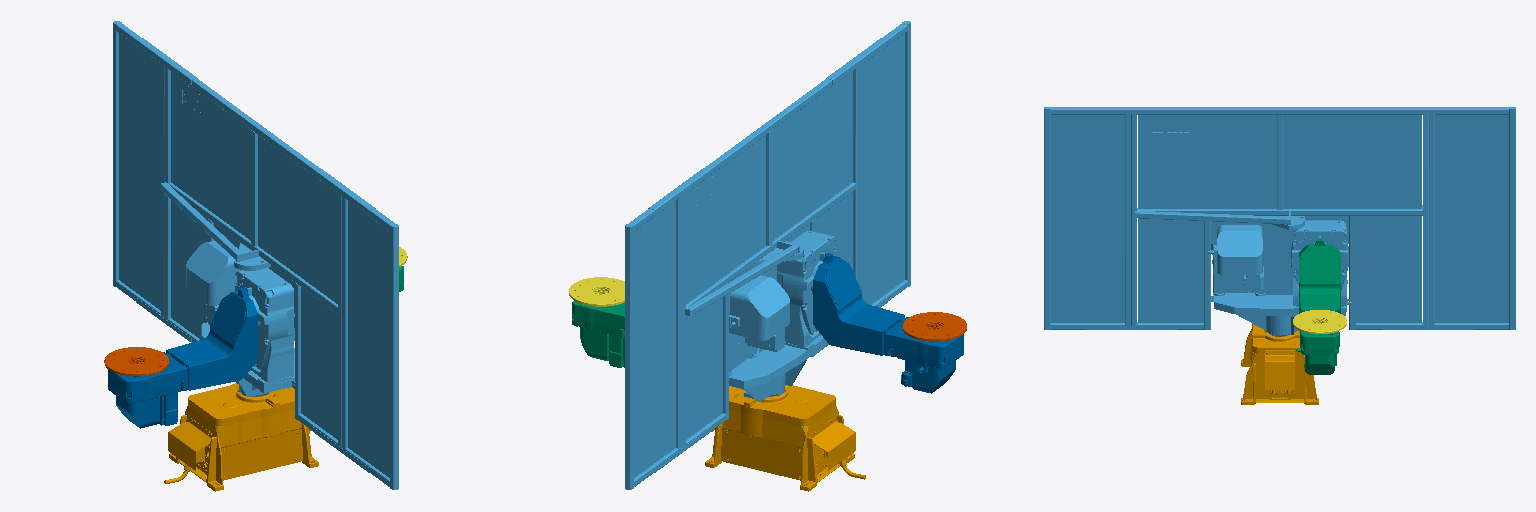
URDF robot description (Irbpb_250_D1000_IRC5_rev02_CAD):
<?xml version="1.0" ?>
<robot name="Irbpb_250_D1000_IRC5_rev02_CAD">

<link name="base_link">
  <inertial>
    <origin xyz="0.8315503227851083 0.2575732995087535 0.1972424486060194" rpy="0 0 0"/>
    <mass value="614.1963724056948"/>
    <inertia ixx="13.487506" iyy="26.109455" izz="25.519482" ixy="-0.0812" iyz="-0.009251" ixz="-0.682488"/>
  </inertial>
  <visual>
    <origin xyz="0 0 0" rpy="0 0 0"/>
    <geometry>
      <mesh filename="meshes/base_link.stl" scale="0.001 0.001 0.001"/>
    </geometry>
  </visual>
  <collision>
    <origin xyz="0 0 0" rpy="0 0 0"/>
    <geometry>
      <mesh filename="meshes/base_link.stl" scale="0.001 0.001 0.001"/>
    </geometry>
  </collision>
</link>

<link name="Irbpb_250_D1000_IRC5_rev02_Turntable250B_CAD_1">
  <inertial>
    <origin xyz="-0.00028336445741461436 0.00042225240939958164 0.582389138564045" rpy="0 0 0"/>
    <mass value="1229.2246324184493"/>
    <inertia ixx="466.81699" iyy="142.824146" izz="345.588743" ixy="-6.826558" iyz="0.260796" ixz="-0.151659"/>
  </inertial>
  <visual>
    <origin xyz="-0.893 -0.258 -0.414" rpy="0 0 0"/>
    <geometry>
      <mesh filename="meshes/Irbpb_250_D1000_IRC5_rev02_Turntable250B_CAD_1.stl" scale="0.001 0.001 0.001"/>
    </geometry>
  </visual>
  <collision>
    <origin xyz="-0.893 -0.258 -0.414" rpy="0 0 0"/>
    <geometry>
      <mesh filename="meshes/Irbpb_250_D1000_IRC5_rev02_Turntable250B_CAD_1.stl" scale="0.001 0.001 0.001"/>
    </geometry>
  </collision>
</link>

<link name="Irbpb_250_D1000_IRC5_rev02_Arm250AB_CAD_2">
  <inertial>
    <origin xyz="0.48801217356594817 0.002958455484130651 -0.23703597879900595" rpy="0 0 0"/>
    <mass value="217.73324755813744"/>
    <inertia ixx="5.185201" iyy="17.402613" izz="14.43321" ixy="-0.024249" iyz="0.115794" ixz="5.506633"/>
  </inertial>
  <visual>
    <origin xyz="-1.1035 -0.516 -1.02" rpy="0 0 0"/>
    <geometry>
      <mesh filename="meshes/Irbpb_250_D1000_IRC5_rev02_Arm250AB_CAD_2.stl" scale="0.001 0.001 0.001"/>
    </geometry>
  </visual>
  <collision>
    <origin xyz="-1.1035 -0.516 -1.02" rpy="0 0 0"/>
    <geometry>
      <mesh filename="meshes/Irbpb_250_D1000_IRC5_rev02_Arm250AB_CAD_2.stl" scale="0.001 0.001 0.001"/>
    </geometry>
  </collision>
</link>

<link name="Irbpb_250_D1000_IRC5_rev02_platter_d350_CAD_2">
  <inertial>
    <origin xyz="0.00040519612738121324 -1.0394556770876306e-08 0.027964589027180575" rpy="0 0 0"/>
    <mass value="9.835889620455225"/>
    <inertia ixx="0.066765" iyy="0.067076" izz="0.131981" ixy="-0.0" iyz="-0.0" ixz="9.3e-05"/>
  </inertial>
  <visual>
    <origin xyz="-1.786 -0.516 -0.86163" rpy="0 0 0"/>
    <geometry>
      <mesh filename="meshes/Irbpb_250_D1000_IRC5_rev02_platter_d350_CAD_2.stl" scale="0.001 0.001 0.001"/>
    </geometry>
  </visual>
  <collision>
    <origin xyz="-1.786 -0.516 -0.86163" rpy="0 0 0"/>
    <geometry>
      <mesh filename="meshes/Irbpb_250_D1000_IRC5_rev02_platter_d350_CAD_2.stl" scale="0.001 0.001 0.001"/>
    </geometry>
  </collision>
</link>

<link name="Irbpb_250_D1000_IRC5_rev02_Arm250AB_CAD_1">
  <inertial>
    <origin xyz="-0.4865121735659528 -0.0029584554840968095 -0.23703597879900562" rpy="0 0 0"/>
    <mass value="217.73324755813744"/>
    <inertia ixx="5.185201" iyy="17.402613" izz="14.43321" ixy="-0.024249" iyz="-0.115794" ixz="-5.506633"/>
  </inertial>
  <visual>
    <origin xyz="-0.681 -0.0 -1.02" rpy="0 0 0"/>
    <geometry>
      <mesh filename="meshes/Irbpb_250_D1000_IRC5_rev02_Arm250AB_CAD_1.stl" scale="0.001 0.001 0.001"/>
    </geometry>
  </visual>
  <collision>
    <origin xyz="-0.681 -0.0 -1.02" rpy="0 0 0"/>
    <geometry>
      <mesh filename="meshes/Irbpb_250_D1000_IRC5_rev02_Arm250AB_CAD_1.stl" scale="0.001 0.001 0.001"/>
    </geometry>
  </collision>
</link>

<link name="Irbpb_250_D1000_IRC5_rev02_platter_d350_CAD_1">
  <inertial>
    <origin xyz="-0.0004051961273962387 1.0394624897565086e-08 0.02829458902718074" rpy="0 0 0"/>
    <mass value="9.835889620455225"/>
    <inertia ixx="0.066765" iyy="0.067076" izz="0.131981" ixy="-0.0" iyz="0.0" ixz="-9.3e-05"/>
  </inertial>
  <visual>
    <origin xyz="-0.0 0.0 -0.8613" rpy="0 0 0"/>
    <geometry>
      <mesh filename="meshes/Irbpb_250_D1000_IRC5_rev02_platter_d350_CAD_1.stl" scale="0.001 0.001 0.001"/>
    </geometry>
  </visual>
  <collision>
    <origin xyz="-0.0 0.0 -0.8613" rpy="0 0 0"/>
    <geometry>
      <mesh filename="meshes/Irbpb_250_D1000_IRC5_rev02_platter_d350_CAD_1.stl" scale="0.001 0.001 0.001"/>
    </geometry>
  </collision>
</link>

<joint name="j1" type="continuous">
  <origin xyz="0.893 0.258 0.414" rpy="0 0 0"/>
  <parent link="base_link"/>
  <child link="Irbpb_250_D1000_IRC5_rev02_Turntable250B_CAD_1"/>
  <axis xyz="0.0 0.0 1.0"/>
</joint>

<joint name="j2" type="continuous">
  <origin xyz="0.2105 0.258 0.606" rpy="0 0 0"/>
  <parent link="Irbpb_250_D1000_IRC5_rev02_Turntable250B_CAD_1"/>
  <child link="Irbpb_250_D1000_IRC5_rev02_Arm250AB_CAD_2"/>
  <axis xyz="1.0 0.0 -0.0"/>
</joint>

<joint name="j3" type="continuous">
  <origin xyz="0.6825 0.0 -0.15837" rpy="0 0 0"/>
  <parent link="Irbpb_250_D1000_IRC5_rev02_Arm250AB_CAD_2"/>
  <child link="Irbpb_250_D1000_IRC5_rev02_platter_d350_CAD_2"/>
  <axis xyz="0.0 -0.0 1.0"/>
</joint>

<joint name="j4" type="continuous">
  <origin xyz="-0.212 -0.258 0.606" rpy="0 0 0"/>
  <parent link="Irbpb_250_D1000_IRC5_rev02_Turntable250B_CAD_1"/>
  <child link="Irbpb_250_D1000_IRC5_rev02_Arm250AB_CAD_1"/>
  <axis xyz="1.0 0.0 0.0"/>
</joint>

<joint name="j5" type="continuous">
  <origin xyz="-0.681 -0.0 -0.1587" rpy="0 0 0"/>
  <parent link="Irbpb_250_D1000_IRC5_rev02_Arm250AB_CAD_1"/>
  <child link="Irbpb_250_D1000_IRC5_rev02_platter_d350_CAD_1"/>
  <axis xyz="0.0 -0.0 -1.0"/>
</joint>

</robot>

--- Facts derived from the render (not from the file) ---
3 views of the same robot in one strip: view 1: azimuth 30°, elevation 25°; view 2: azimuth 150°, elevation 25°; view 3: azimuth 270°, elevation 25° (orthographic).
Robot: Irbpb_250_D1000_IRC5_rev02_CAD — 6 links, 5 joints (5 continuous); root link base_link; default pose: all joints at 0.
Links seen in each view (by area): view 1: Irbpb_250_D1000_IRC5_rev02_Turntable250B_CAD_1, base_link, Irbpb_250_D1000_IRC5_rev02_Arm250AB_CAD_1, Irbpb_250_D1000_IRC5_rev02_platter_d350_CAD_1; view 2: Irbpb_250_D1000_IRC5_rev02_Turntable250B_CAD_1, base_link, Irbpb_250_D1000_IRC5_rev02_Arm250AB_CAD_1, Irbpb_250_D1000_IRC5_rev02_Arm250AB_CAD_2, Irbpb_250_D1000_IRC5_rev02_platter_d350_CAD_1, Irbpb_250_D1000_IRC5_rev02_platter_d350_CAD_2; view 3: Irbpb_250_D1000_IRC5_rev02_Turntable250B_CAD_1, base_link, Irbpb_250_D1000_IRC5_rev02_Arm250AB_CAD_2, Irbpb_250_D1000_IRC5_rev02_platter_d350_CAD_2.
Link boxes in pixels (left/top/right/bottom): Irbpb_250_D1000_IRC5_rev02_Turntable250B_CAD_1: left=113, top=21, right=398, bottom=489; base_link: left=164, top=383, right=318, bottom=491; Irbpb_250_D1000_IRC5_rev02_Arm250AB_CAD_1: left=108, top=288, right=257, bottom=428; Irbpb_250_D1000_IRC5_rev02_platter_d350_CAD_1: left=104, top=347, right=168, bottom=376; Irbpb_250_D1000_IRC5_rev02_Turntable250B_CAD_1: left=625, top=21, right=910, bottom=489; base_link: left=705, top=385, right=865, bottom=491; Irbpb_250_D1000_IRC5_rev02_Arm250AB_CAD_1: left=813, top=253, right=963, bottom=393; Irbpb_250_D1000_IRC5_rev02_Arm250AB_CAD_2: left=572, top=301, right=624, bottom=367; Irbpb_250_D1000_IRC5_rev02_platter_d350_CAD_1: left=903, top=312, right=966, bottom=341; Irbpb_250_D1000_IRC5_rev02_platter_d350_CAD_2: left=569, top=277, right=624, bottom=306; Irbpb_250_D1000_IRC5_rev02_Turntable250B_CAD_1: left=1044, top=107, right=1515, bottom=336; base_link: left=1241, top=324, right=1318, bottom=404; Irbpb_250_D1000_IRC5_rev02_Arm250AB_CAD_2: left=1296, top=238, right=1340, bottom=374; Irbpb_250_D1000_IRC5_rev02_platter_d350_CAD_2: left=1293, top=310, right=1346, bottom=333.
Bounding box of the posed robot: 2.14 × 3.04 × 2 m (x, y, z).
6 mesh visuals loaded from 6 distinct referenced files (6 binary STL).